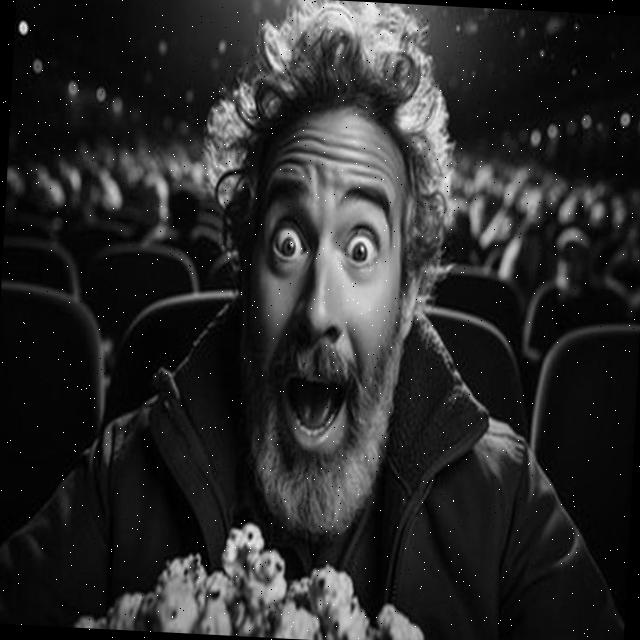Fear: (232, 104, 410, 538)
